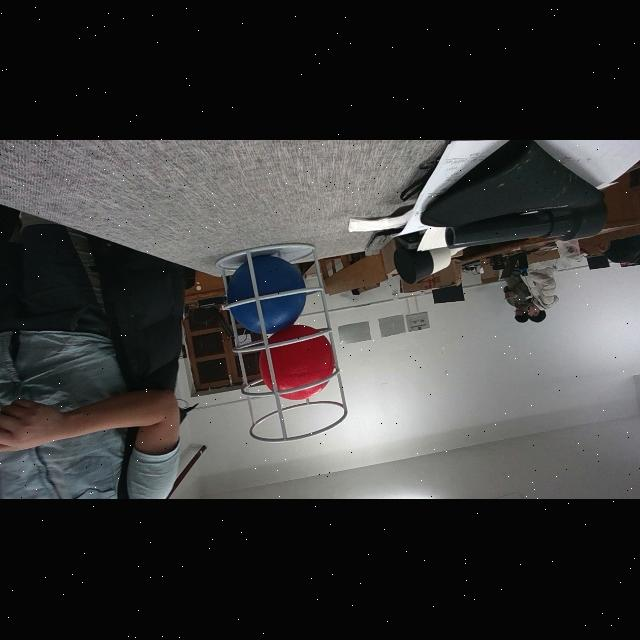B: (226, 255, 306, 335)
R: (258, 325, 336, 401)
S: (216, 243, 348, 443)
